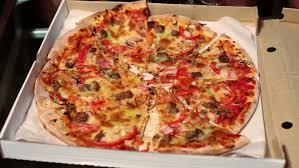pizza: (44, 3, 259, 148)
